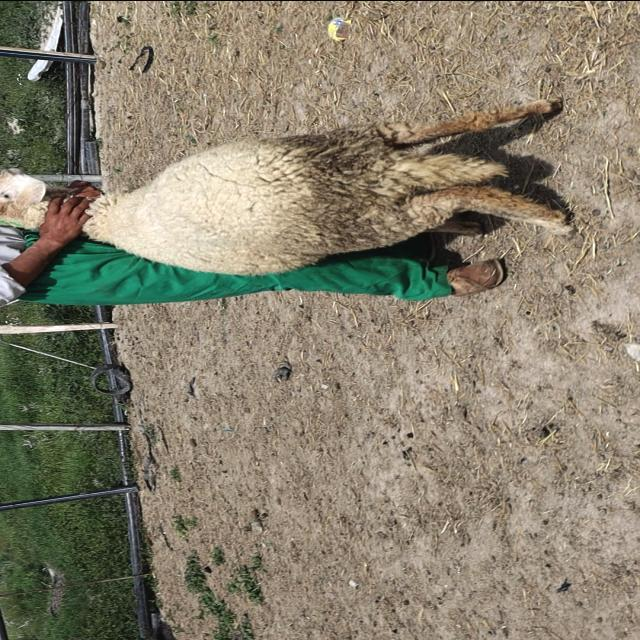Score_4: (84, 98, 572, 275)
